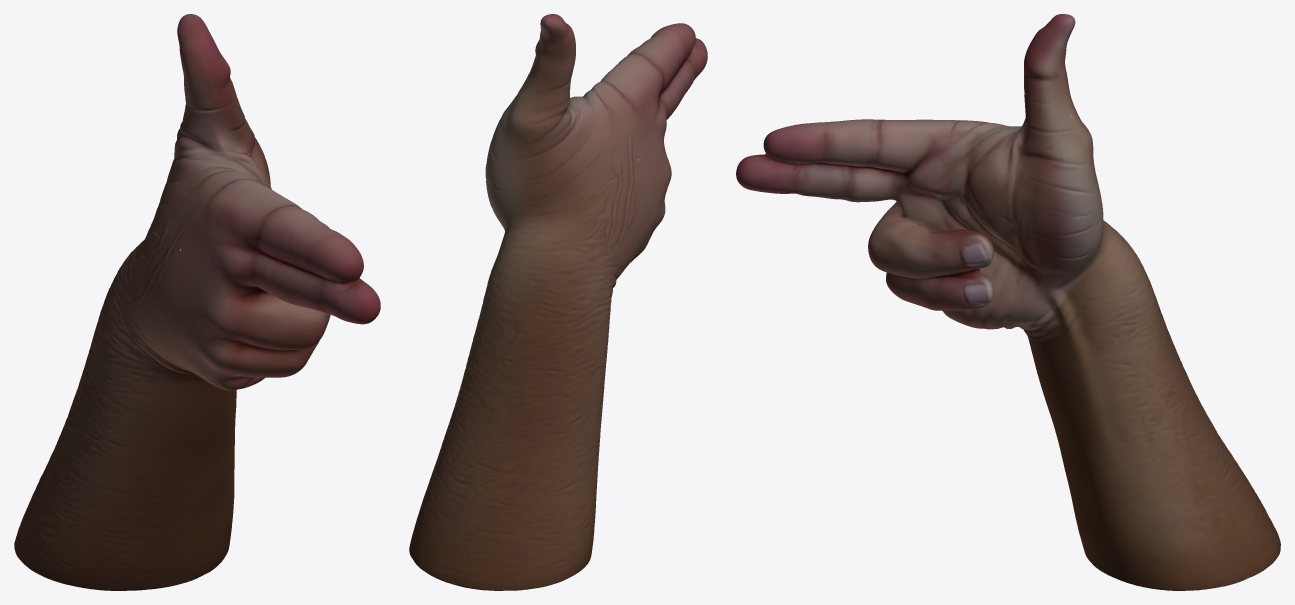
File: cha.glb
The picture shows the model from 3 angles, left to right: view 1: azimuth 30°, elevation 25°; view 2: azimuth 150°, elevation 25°; view 3: azimuth 270°, elevation 25°; orthographic projection. The views are drawn at different scales.
Parts seen in each view (by area): view 1: tripo_node_3f46fdc4-7064-4ff8-9e8f-8f6535033ed5; view 2: tripo_node_3f46fdc4-7064-4ff8-9e8f-8f6535033ed5; view 3: tripo_node_3f46fdc4-7064-4ff8-9e8f-8f6535033ed5.
Part boxes in pixels (x1=…): tripo_node_3f46fdc4-7064-4ff8-9e8f-8f6535033ed5: x1=14, y1=14, x2=380, y2=590; tripo_node_3f46fdc4-7064-4ff8-9e8f-8f6535033ed5: x1=409, y1=14, x2=707, y2=590; tripo_node_3f46fdc4-7064-4ff8-9e8f-8f6535033ed5: x1=736, y1=14, x2=1280, y2=590.
Bounding box in the file's own units: 0.3376 × 0.9979 × 0.9209.
1 material, 1 textured.
